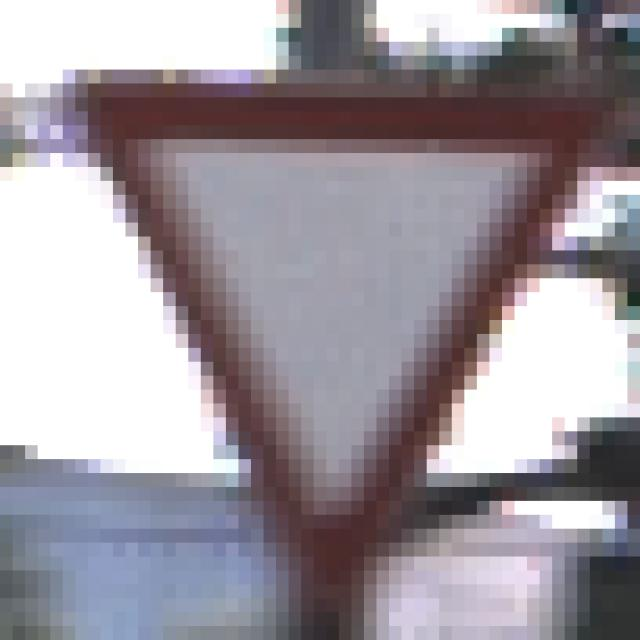Give Way: (76, 71, 566, 572)
